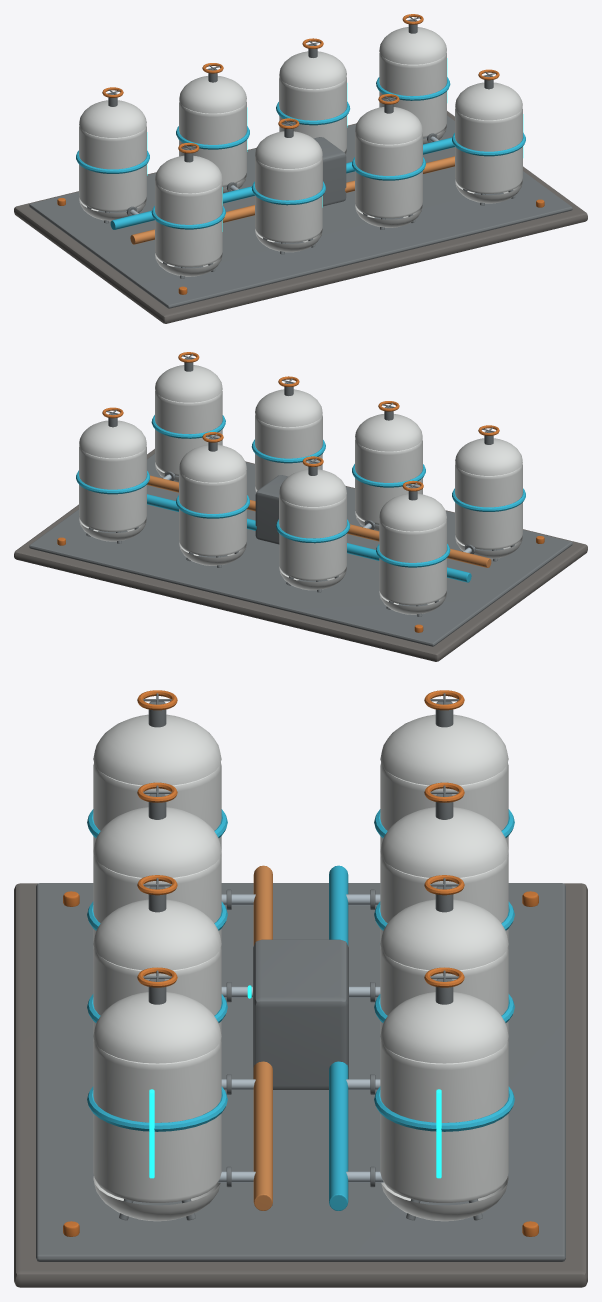
Rendered from polar-cryogenic-farm.glb.
3 views of the same model, one above another, from view 1: azimuth 30°, elevation 25°; view 2: azimuth 150°, elevation 25°; view 3: azimuth 270°, elevation 25° (orthographic). The views are drawn at different scales.
Parts seen in each view (by area): view 1: RenderBatch_PolarCryogenicFarm_POLAR_CRYO_Frame, PolarCryogenicFarm_Foundation, RenderBatch_PolarCryo_Tank_03_POLAR_CRYO_ThermalWhite, RenderBatch_PolarCryo_Tank_02_POLAR_CRYO_ThermalWhite, RenderBatch_PolarCryo_Tank_01_POLAR_CRYO_ThermalWhite, RenderBatch_PolarCryo_Tank_04_POLAR_CRYO_ThermalWhite, RenderBatch_PolarCryo_Tank_05_POLAR_CRYO_ThermalWhite, RenderBatch_PolarCryo_Tank_06_POLAR_CRYO_ThermalWhite, RenderBatch_PolarCryo_Tank_08_POLAR_CRYO_ThermalWhite, RenderBatch_PolarCryo_Tank_07_POLAR_CRYO_ThermalWhite, PolarCryo_HeaderB, PolarCryo_HeaderA (+8 smaller); view 2: RenderBatch_PolarCryogenicFarm_POLAR_CRYO_Frame, PolarCryogenicFarm_Foundation, RenderBatch_PolarCryo_Tank_07_POLAR_CRYO_ThermalWhite, RenderBatch_PolarCryo_Tank_06_POLAR_CRYO_ThermalWhite, RenderBatch_PolarCryo_Tank_05_POLAR_CRYO_ThermalWhite, RenderBatch_PolarCryo_Tank_08_POLAR_CRYO_ThermalWhite, RenderBatch_PolarCryo_Tank_01_POLAR_CRYO_ThermalWhite, RenderBatch_PolarCryo_Tank_02_POLAR_CRYO_ThermalWhite, RenderBatch_PolarCryo_Tank_04_POLAR_CRYO_ThermalWhite, RenderBatch_PolarCryo_Tank_03_POLAR_CRYO_ThermalWhite, PolarCryo_HeaderA, PolarCryo_HeaderB (+8 smaller); view 3: RenderBatch_PolarCryogenicFarm_POLAR_CRYO_Frame, PolarCryogenicFarm_Foundation, RenderBatch_PolarCryo_Tank_04_POLAR_CRYO_ThermalWhite, RenderBatch_PolarCryo_Tank_08_POLAR_CRYO_ThermalWhite, RenderBatch_PolarCryo_Tank_03_POLAR_CRYO_ThermalWhite, RenderBatch_PolarCryo_Tank_07_POLAR_CRYO_ThermalWhite, RenderBatch_PolarCryo_Tank_01_POLAR_CRYO_ThermalWhite, RenderBatch_PolarCryo_Tank_05_POLAR_CRYO_ThermalWhite, RenderBatch_PolarCryo_Tank_02_POLAR_CRYO_ThermalWhite, RenderBatch_PolarCryo_Tank_06_POLAR_CRYO_ThermalWhite, PolarCryo_HeaderA, PolarCryo_HeaderB (+3 smaller).
Boxes of the visible parts, box(x1,y1,x2,y2) form: RenderBatch_PolarCryogenicFarm_POLAR_CRYO_Frame: box(29, 115, 572, 308); PolarCryogenicFarm_Foundation: box(14, 111, 587, 323); RenderBatch_PolarCryo_Tank_03_POLAR_CRYO_ThermalWhite: box(355, 107, 422, 227); RenderBatch_PolarCryo_Tank_02_POLAR_CRYO_ThermalWhite: box(255, 131, 322, 252); RenderBatch_PolarCryo_Tank_01_POLAR_CRYO_ThermalWhite: box(155, 155, 222, 276); RenderBatch_PolarCryo_Tank_04_POLAR_CRYO_ThermalWhite: box(455, 82, 522, 203); RenderBatch_PolarCryo_Tank_05_POLAR_CRYO_ThermalWhite: box(79, 100, 146, 221); RenderBatch_PolarCryo_Tank_06_POLAR_CRYO_ThermalWhite: box(179, 76, 246, 193); RenderBatch_PolarCryo_Tank_08_POLAR_CRYO_ThermalWhite: box(379, 27, 446, 144); RenderBatch_PolarCryo_Tank_07_POLAR_CRYO_ThermalWhite: box(279, 51, 346, 154); PolarCryo_HeaderB: box(110, 137, 454, 229); PolarCryo_HeaderA: box(130, 156, 454, 244); RenderBatch_PolarCryogenicFarm_POLAR_CRYO_Frame: box(29, 453, 572, 646); PolarCryogenicFarm_Foundation: box(14, 449, 587, 661); RenderBatch_PolarCryo_Tank_07_POLAR_CRYO_ThermalWhite: box(179, 445, 246, 565); RenderBatch_PolarCryo_Tank_06_POLAR_CRYO_ThermalWhite: box(279, 469, 346, 590); RenderBatch_PolarCryo_Tank_05_POLAR_CRYO_ThermalWhite: box(379, 493, 446, 614); RenderBatch_PolarCryo_Tank_08_POLAR_CRYO_ThermalWhite: box(79, 420, 146, 541); RenderBatch_PolarCryo_Tank_01_POLAR_CRYO_ThermalWhite: box(455, 438, 522, 559); RenderBatch_PolarCryo_Tank_02_POLAR_CRYO_ThermalWhite: box(355, 414, 422, 531); RenderBatch_PolarCryo_Tank_04_POLAR_CRYO_ThermalWhite: box(155, 365, 222, 482); RenderBatch_PolarCryo_Tank_03_POLAR_CRYO_ThermalWhite: box(255, 389, 322, 492); PolarCryo_HeaderA: box(147, 475, 491, 567); PolarCryo_HeaderB: box(147, 494, 471, 582); RenderBatch_PolarCryogenicFarm_POLAR_CRYO_Frame: box(36, 883, 565, 1261); PolarCryogenicFarm_Foundation: box(14, 883, 587, 1287); RenderBatch_PolarCryo_Tank_04_POLAR_CRYO_ThermalWhite: box(93, 992, 221, 1221); RenderBatch_PolarCryo_Tank_08_POLAR_CRYO_ThermalWhite: box(380, 992, 508, 1221); RenderBatch_PolarCryo_Tank_03_POLAR_CRYO_ThermalWhite: box(93, 899, 221, 1041); RenderBatch_PolarCryo_Tank_07_POLAR_CRYO_ThermalWhite: box(380, 899, 508, 1041); RenderBatch_PolarCryo_Tank_01_POLAR_CRYO_ThermalWhite: box(93, 714, 221, 857); RenderBatch_PolarCryo_Tank_05_POLAR_CRYO_ThermalWhite: box(380, 714, 508, 857); RenderBatch_PolarCryo_Tank_02_POLAR_CRYO_ThermalWhite: box(93, 807, 221, 949); RenderBatch_PolarCryo_Tank_06_POLAR_CRYO_ThermalWhite: box(380, 807, 508, 949); PolarCryo_HeaderA: box(253, 865, 272, 1210); PolarCryo_HeaderB: box(329, 865, 348, 1210).
Size of the model in its own units: 13.6 by 4.17 by 8.4.
